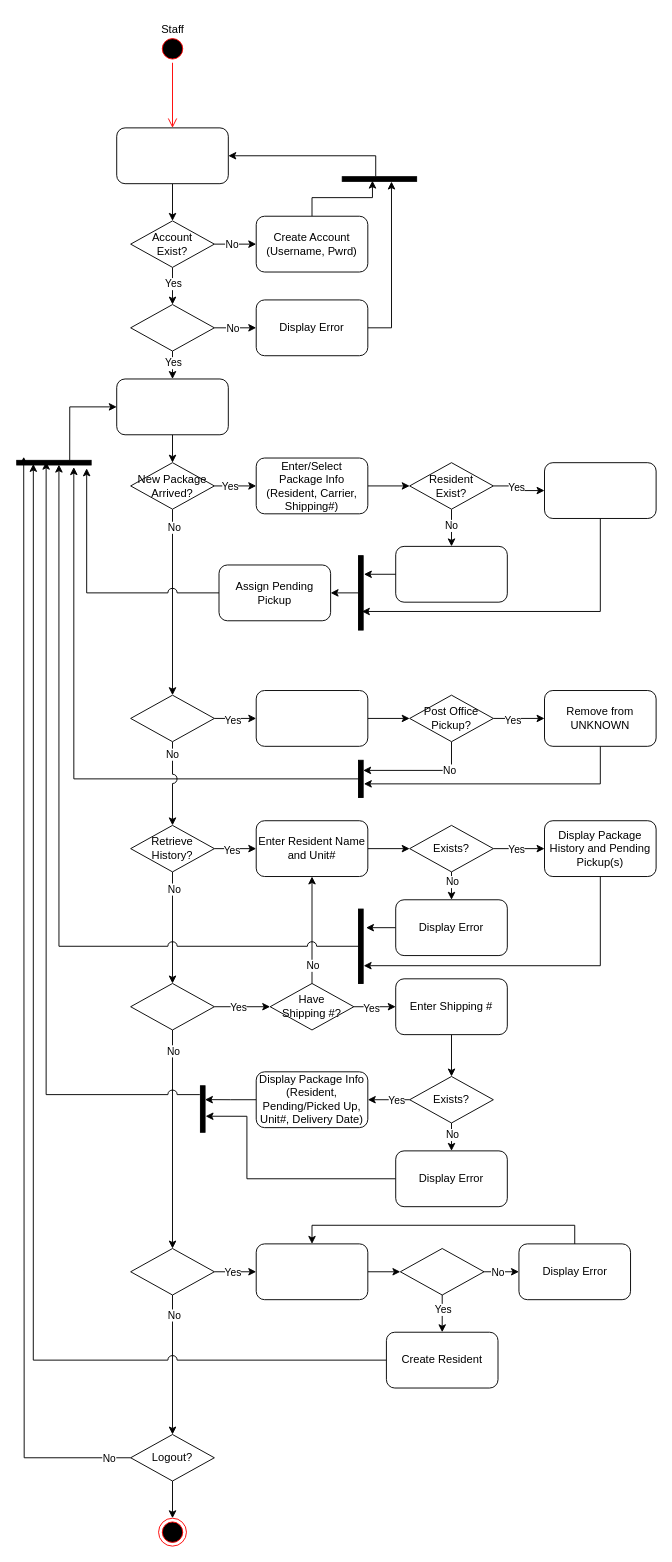
The diagram is 672 pixels wide and 1562 high, and some of its shapes have lost their labels. The centre of each missing label's shape, as x and y in pixels:
"Assign to UNKNOWN" goes at [451,573].
"Correct Info?" goes at [172,327].
"Create New Resident?" goes at [172,1271].
"Display Menu" goes at [172,406].
"Enter Resident Info (Name, Email, Unit)" goes at [311,1271].
"Log In" goes at [172,155].
"Package Picked Up?" goes at [172,718].
"Remove from Pending" goes at [311,718].
"Search For Package?" goes at [172,1006].
"Send Email to Resident" goes at [600,490].
"Valid Info?" goes at [441,1271].
